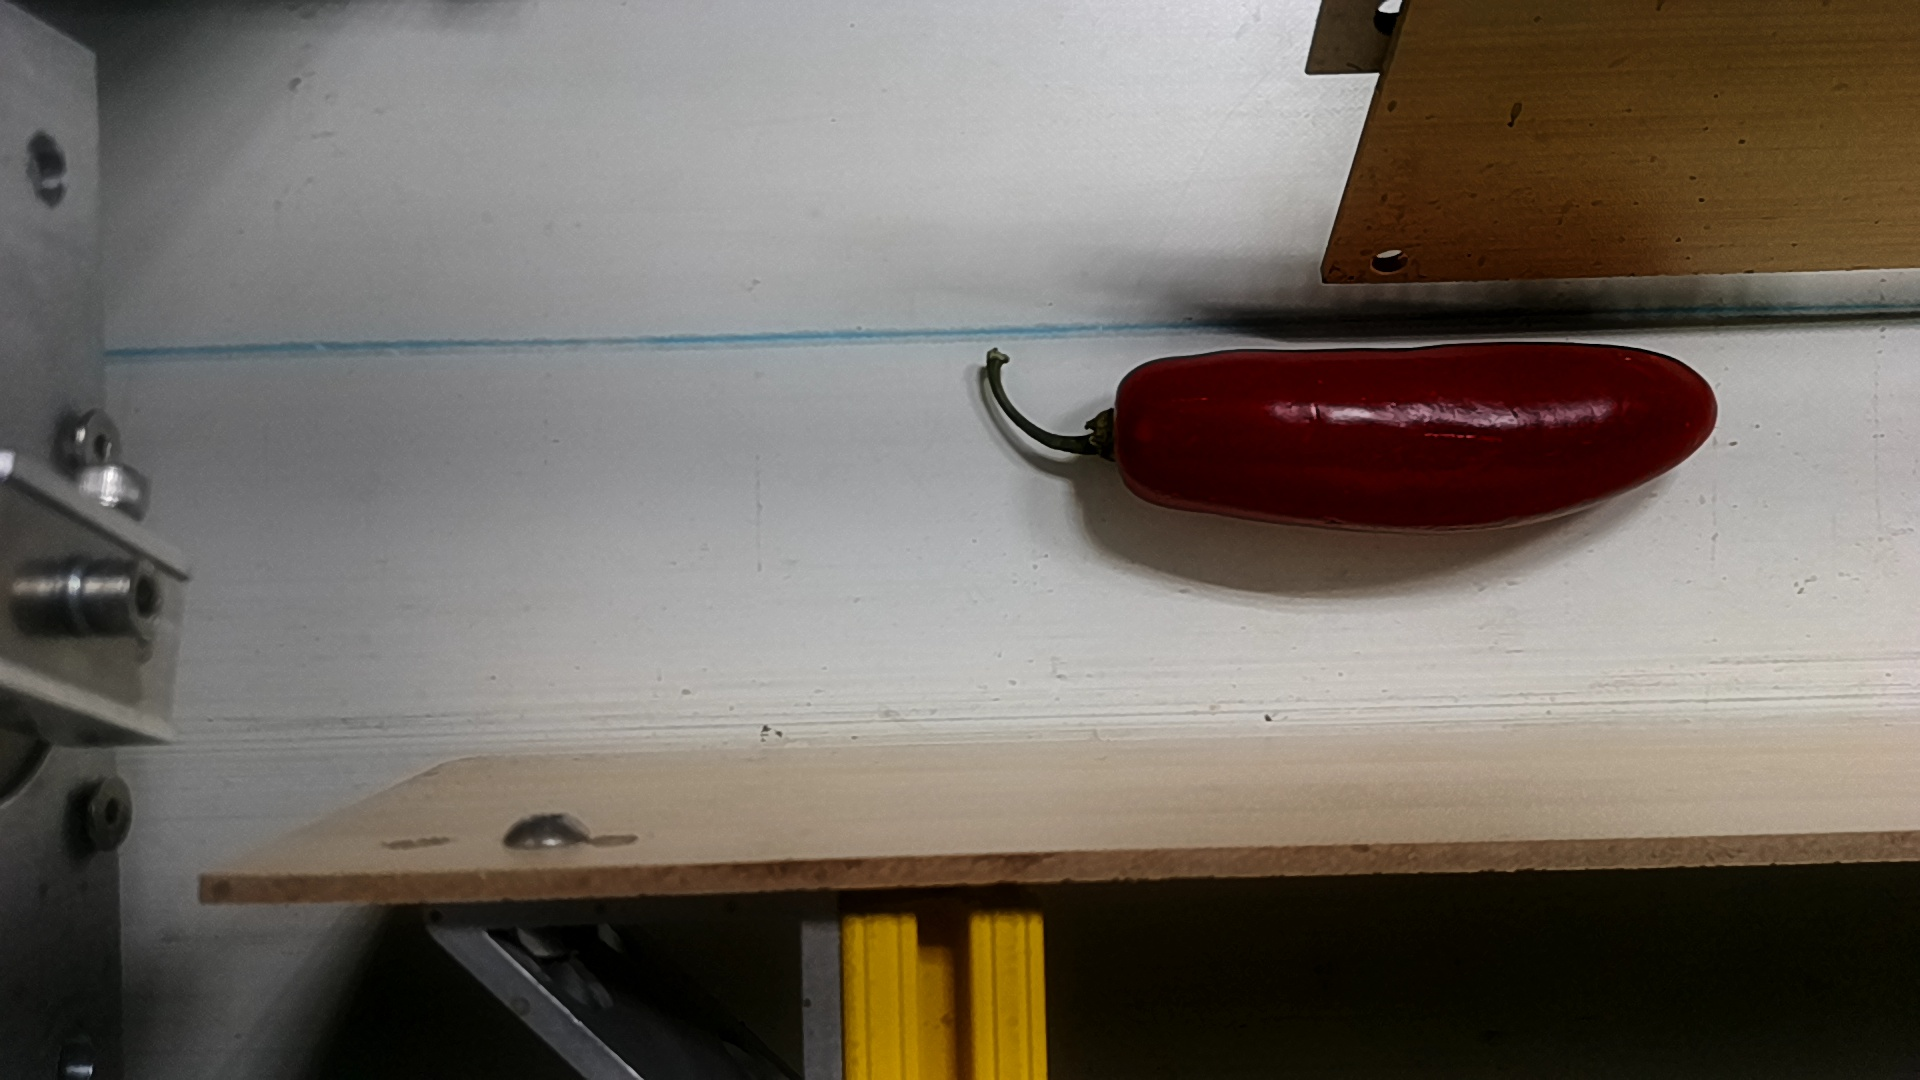Cut Point: (1073, 357, 1184, 518)
